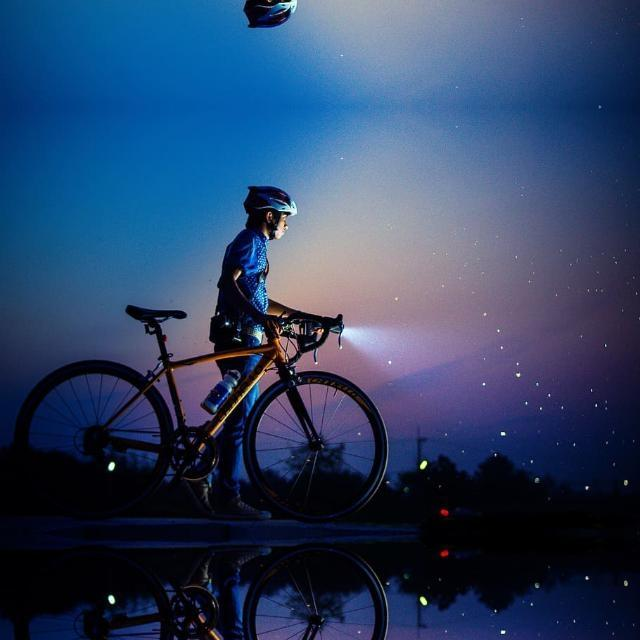obstacle: (5, 281, 402, 515), (5, 551, 402, 640)
